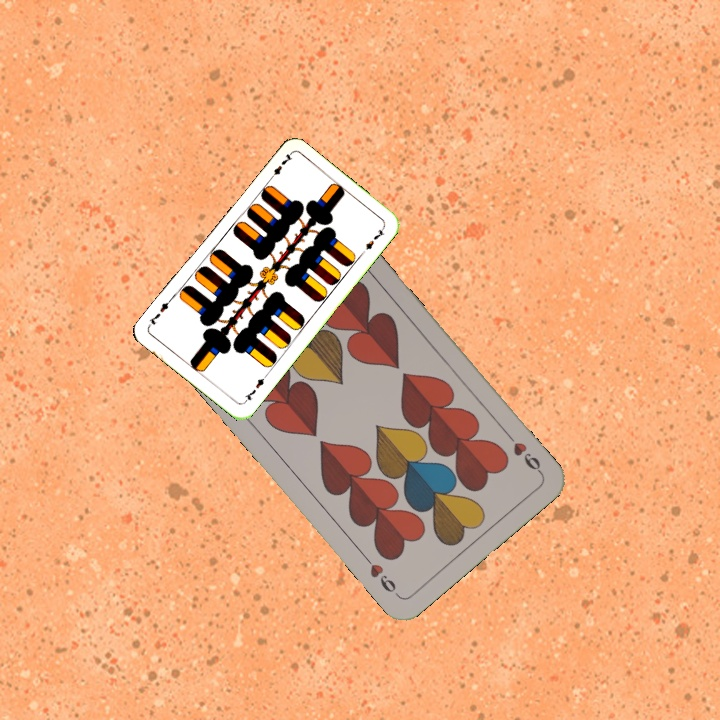E7: (264, 150, 294, 184), (240, 371, 269, 405)
H9: (501, 428, 545, 477)
